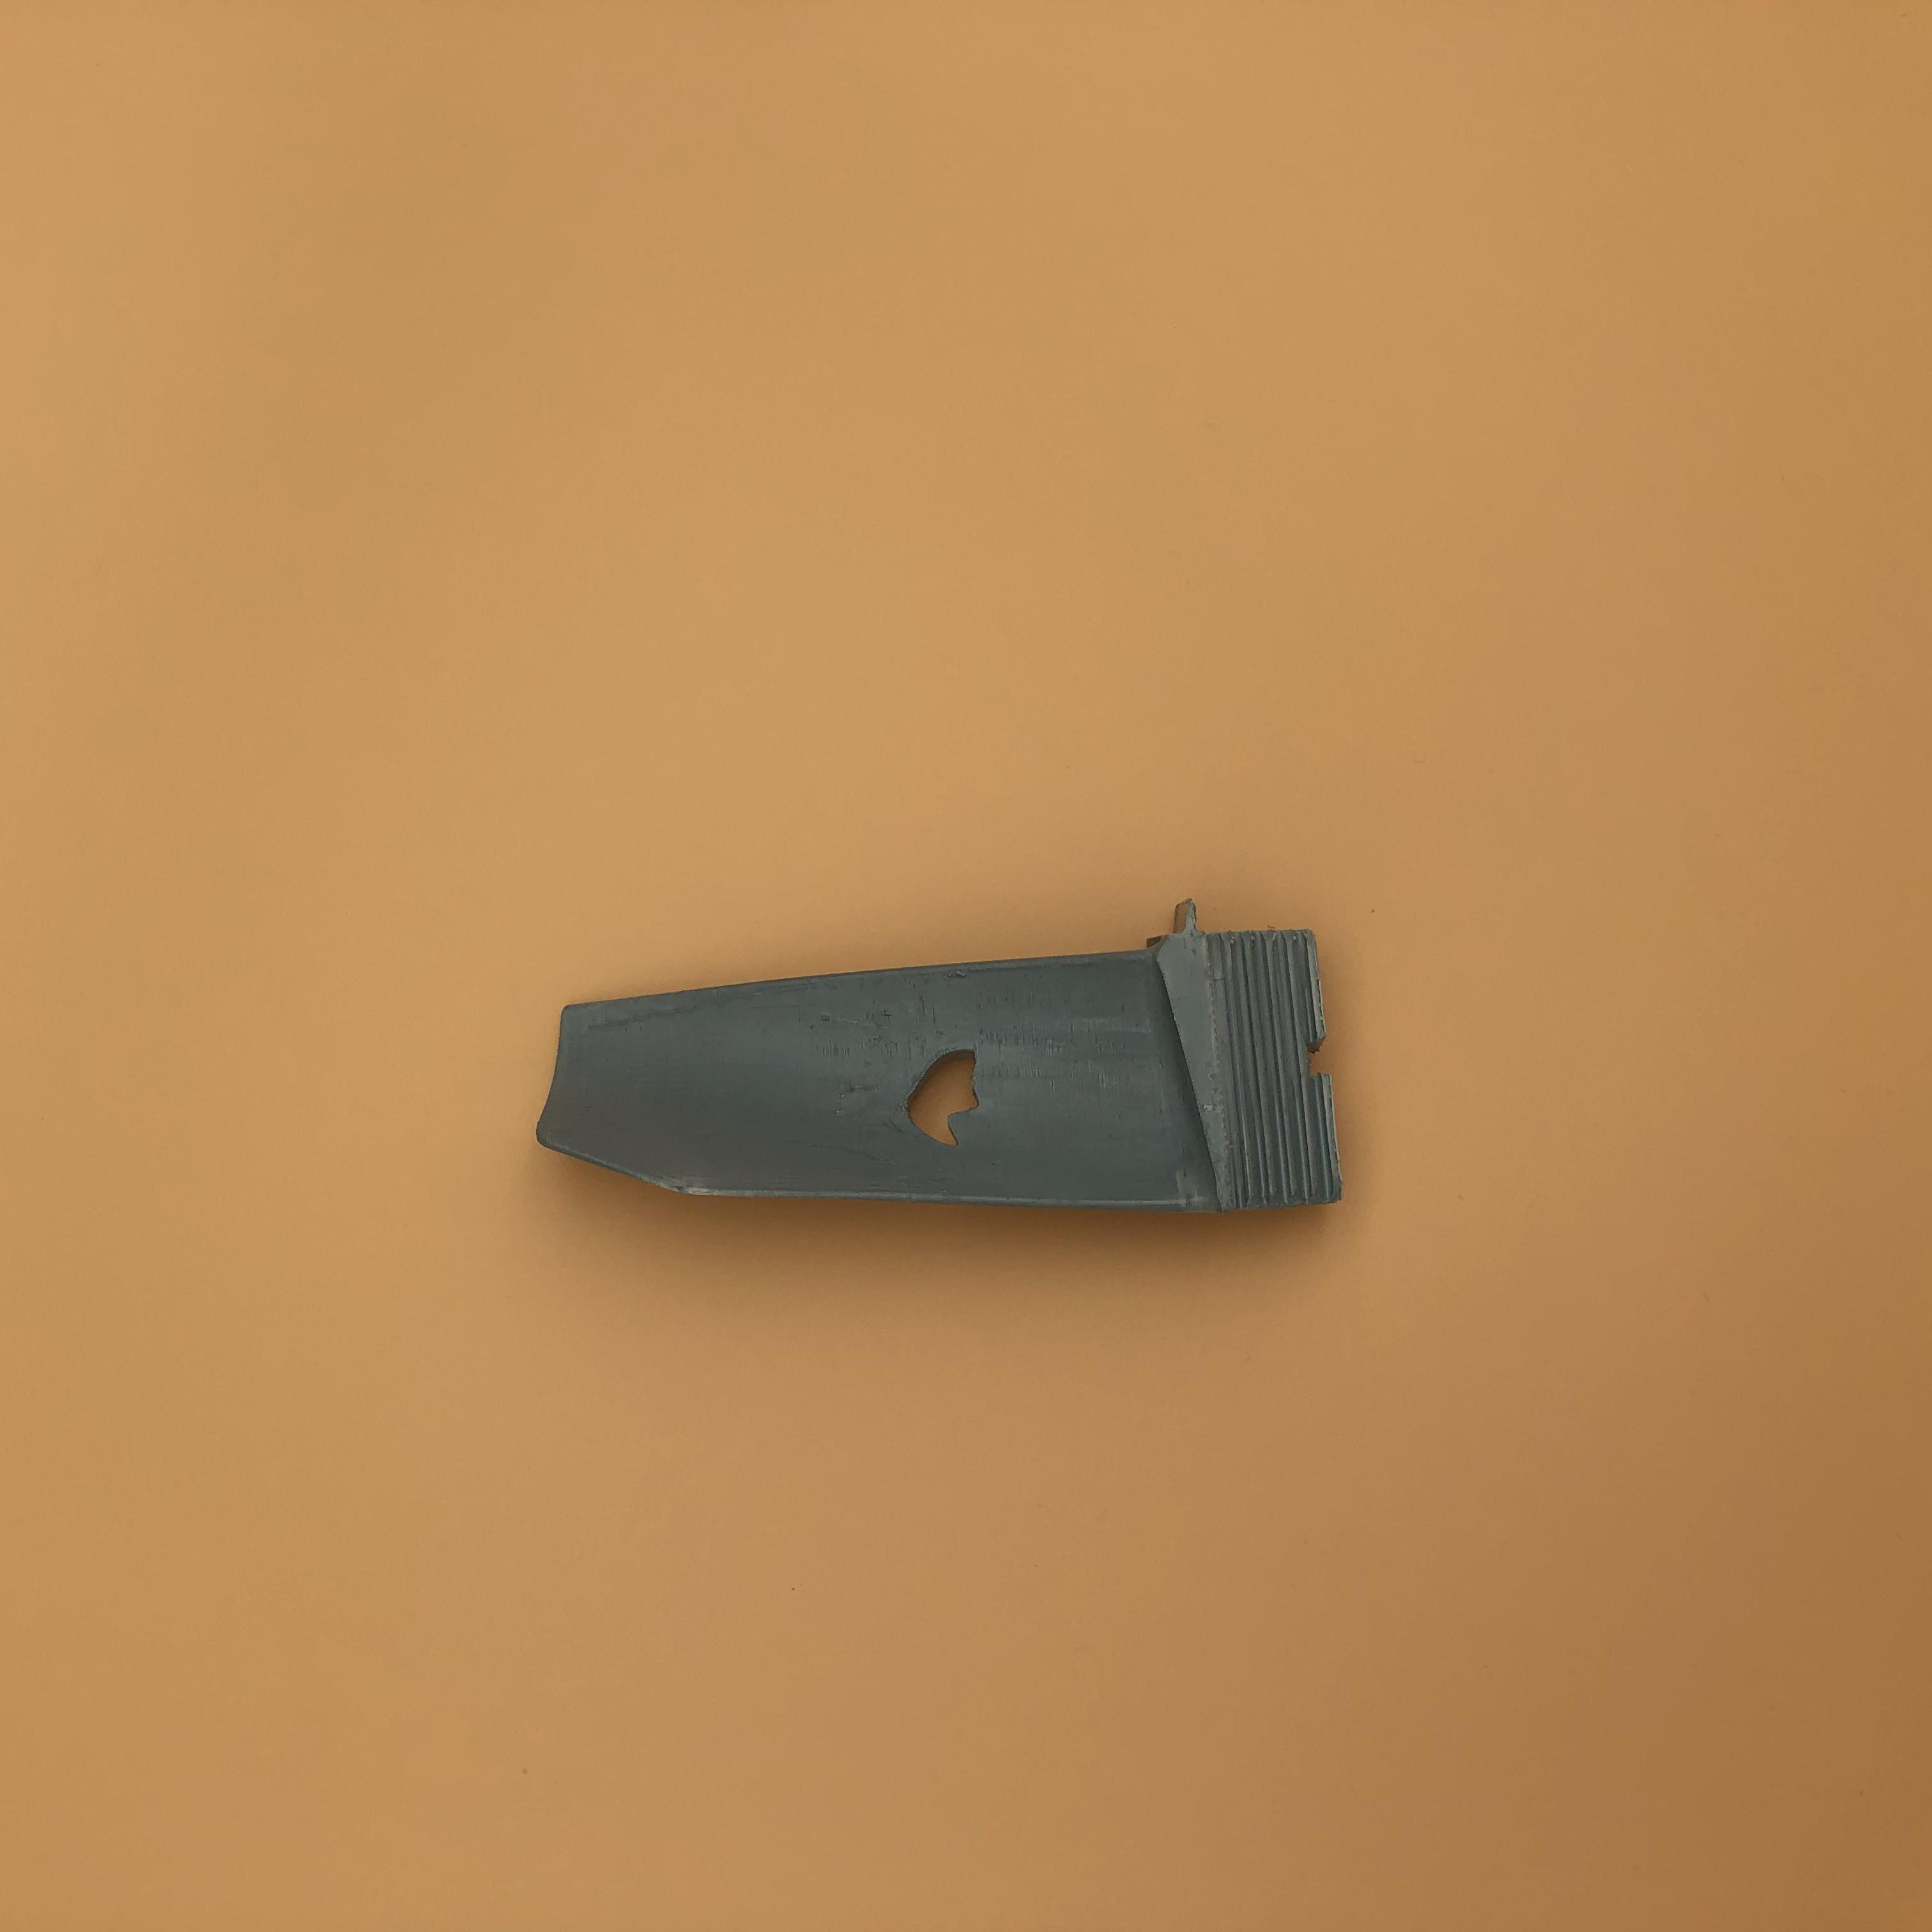breakdown: (906, 1044, 998, 1157)
